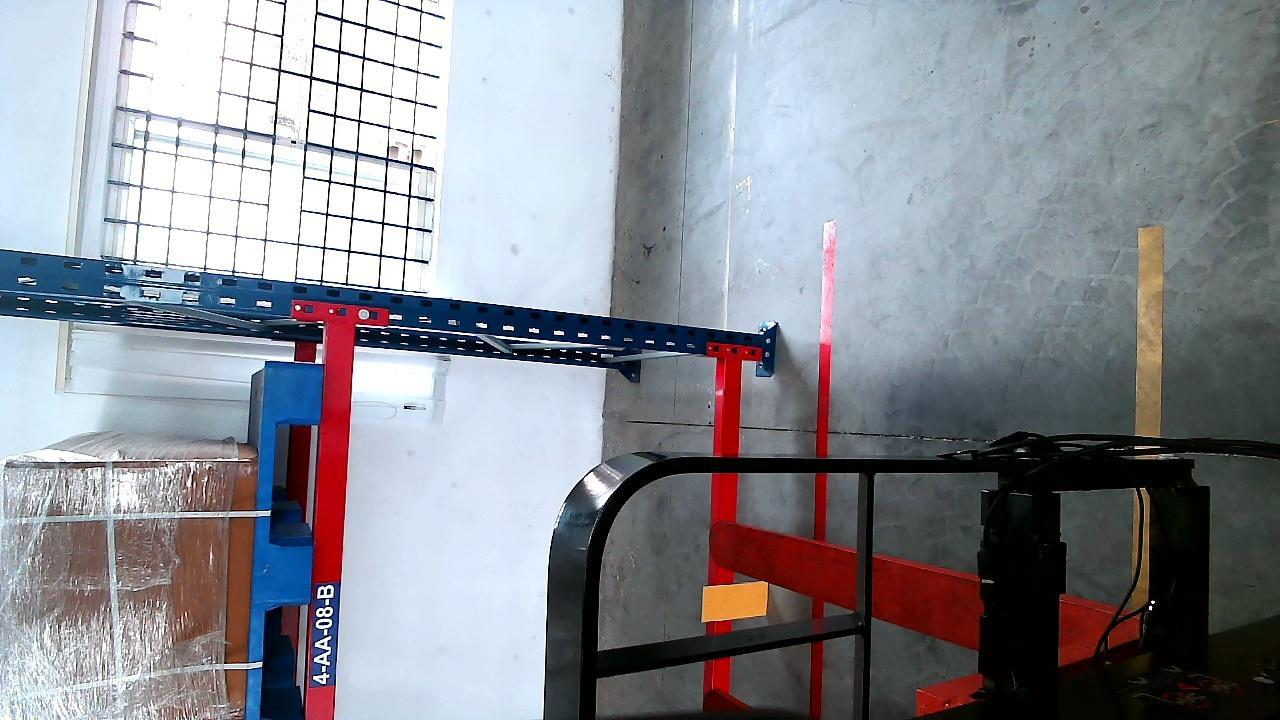red_line: (805, 224, 836, 715)
yellow_line: (1137, 222, 1163, 443)
